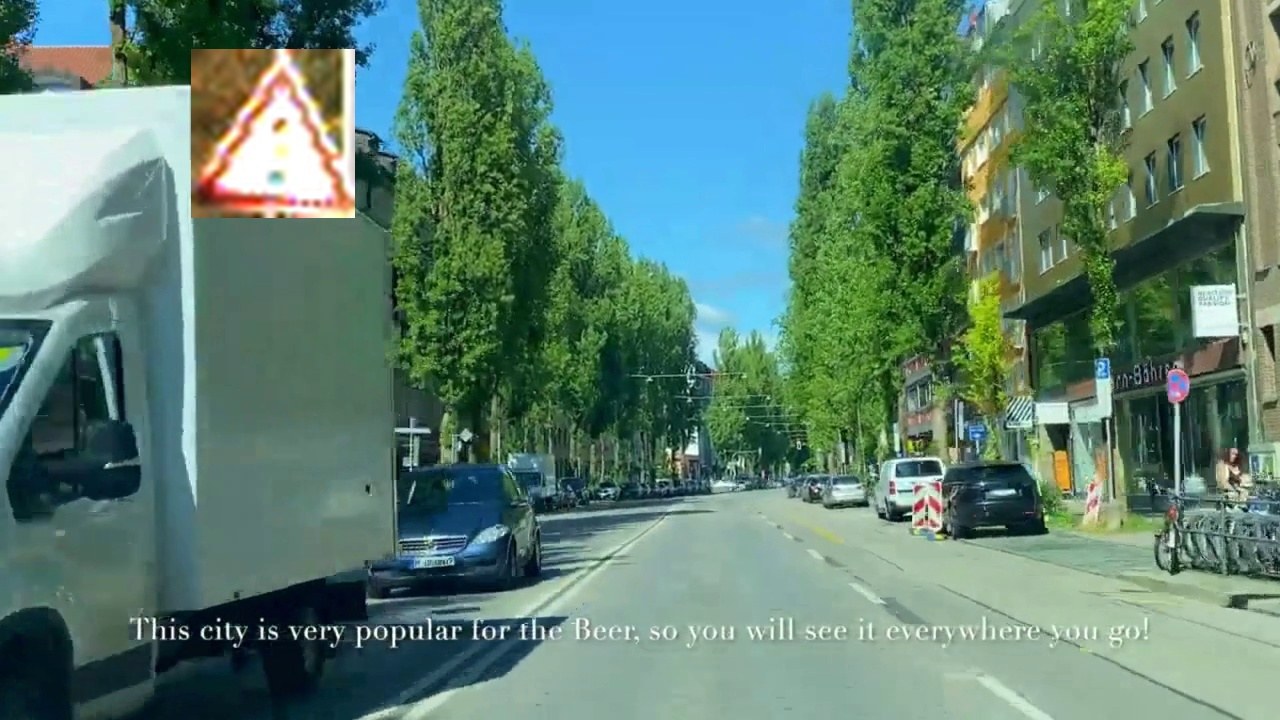Signals: (191, 49, 355, 218)
